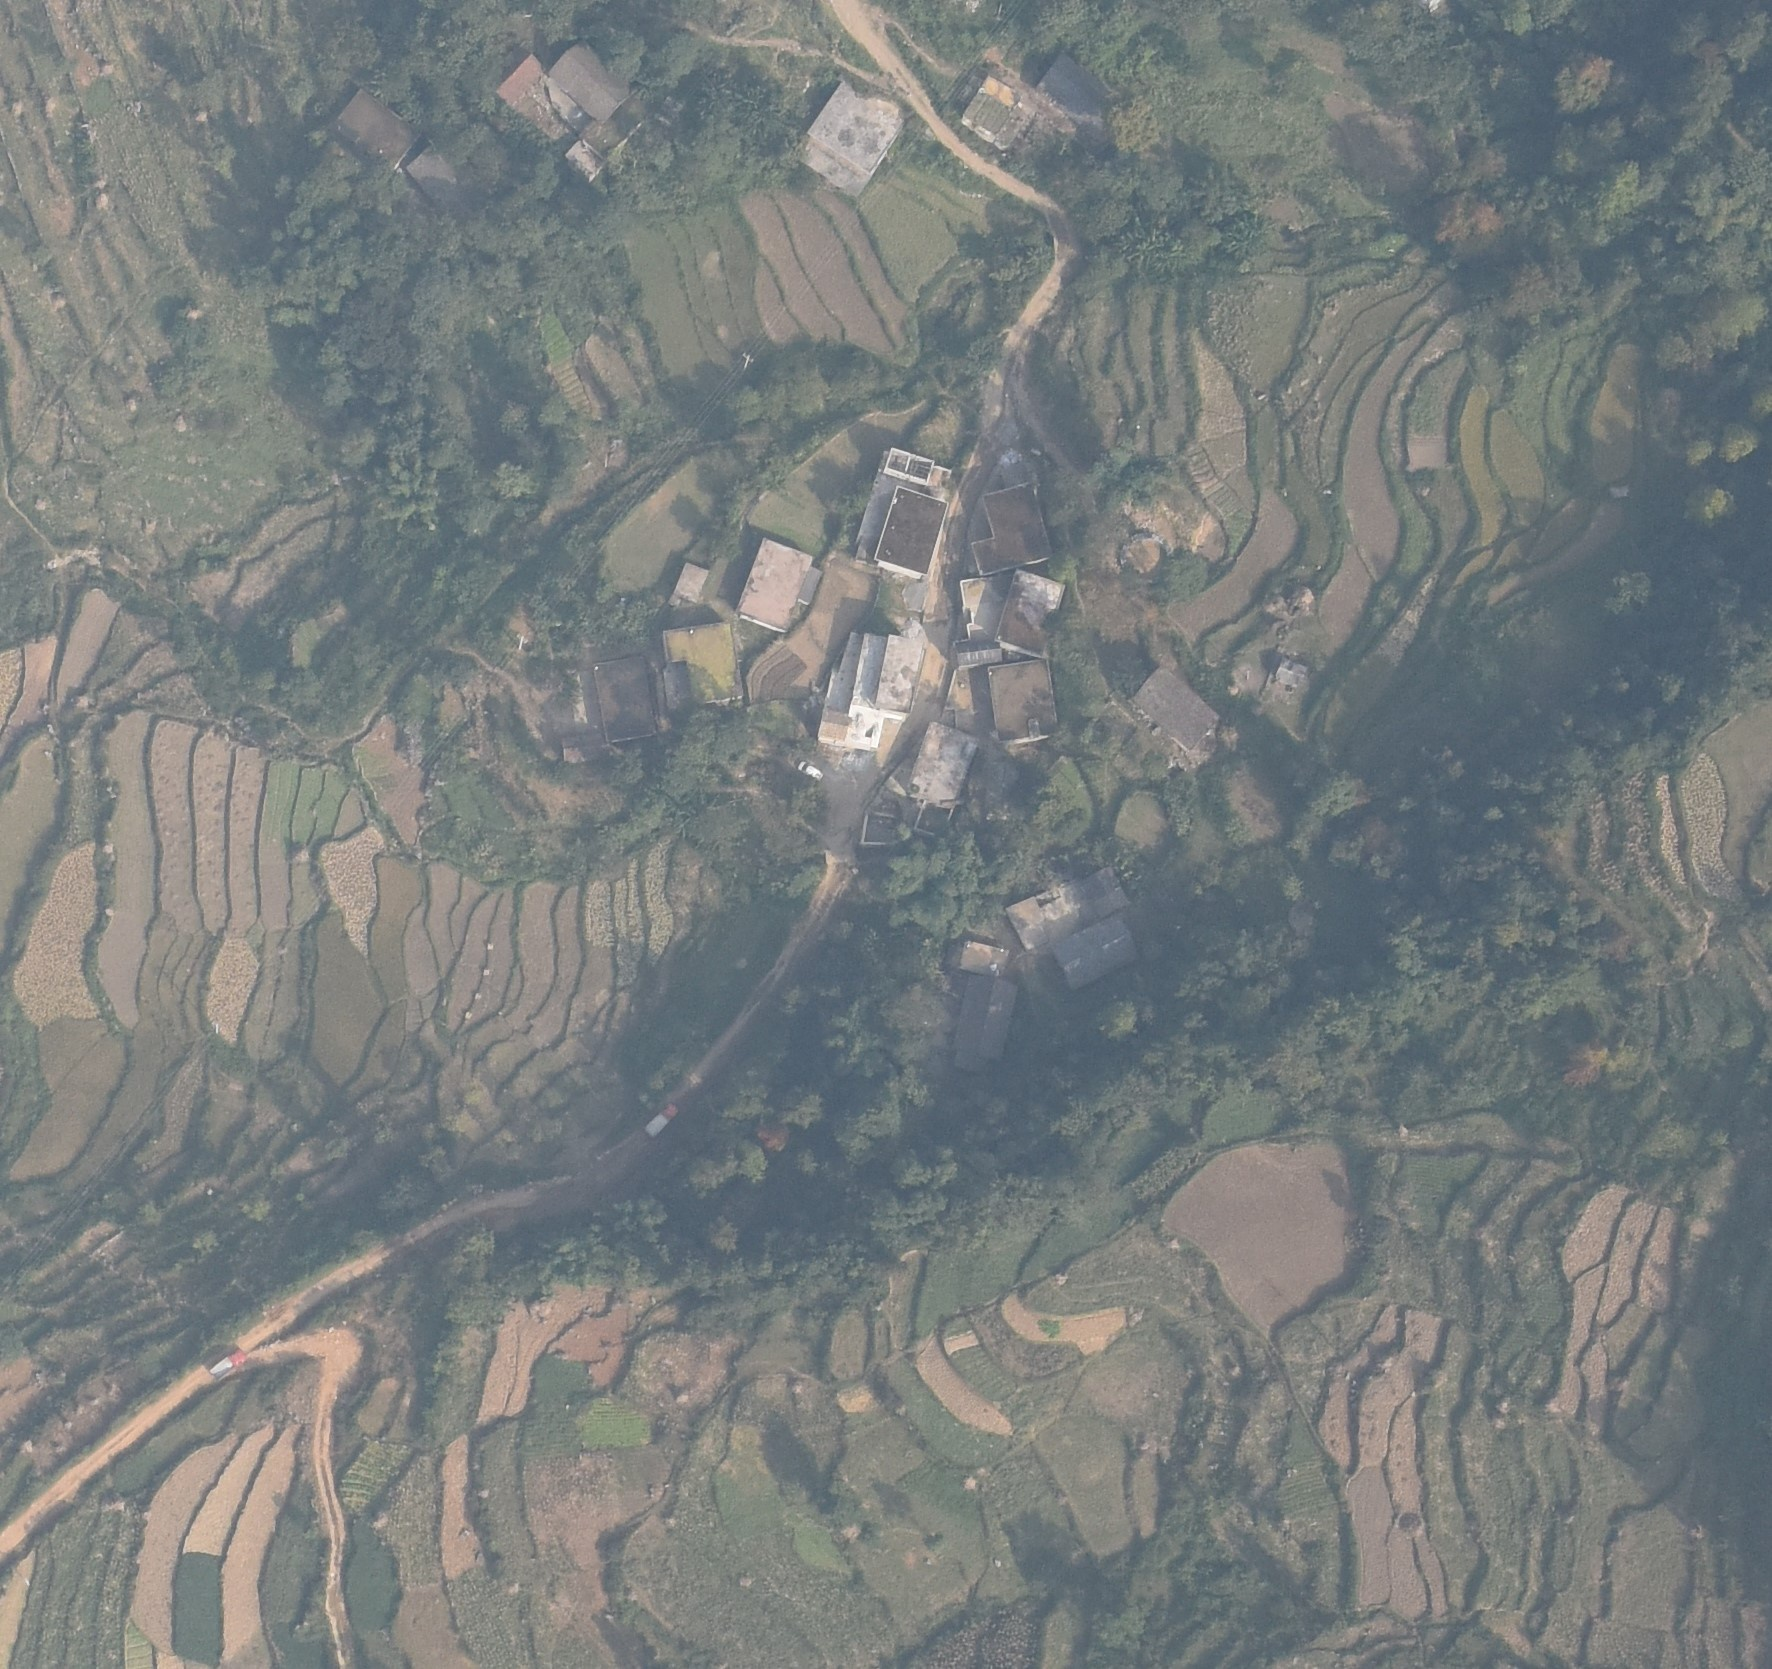building: (817, 632, 923, 750), (794, 85, 902, 196), (971, 479, 1052, 574), (737, 538, 813, 634), (337, 87, 421, 173), (1130, 666, 1217, 749), (550, 41, 635, 125), (875, 486, 951, 577), (662, 619, 743, 704), (497, 54, 575, 142), (1053, 913, 1138, 991), (993, 569, 1066, 659), (909, 721, 980, 809), (986, 658, 1059, 743), (953, 973, 1017, 1063), (593, 653, 656, 743), (1008, 882, 1086, 950), (961, 77, 1034, 149), (1039, 51, 1106, 121), (404, 144, 458, 211), (960, 576, 1010, 643), (1082, 868, 1131, 917), (946, 938, 1009, 976), (580, 119, 633, 162), (883, 447, 935, 483), (673, 563, 711, 601), (954, 639, 1001, 666), (1275, 657, 1308, 689)
cable-tower: (742, 353, 753, 372), (515, 634, 527, 650), (1245, 670, 1248, 680), (1175, 924, 1180, 929)
vehicle: (645, 1100, 677, 1137), (797, 761, 822, 782)
